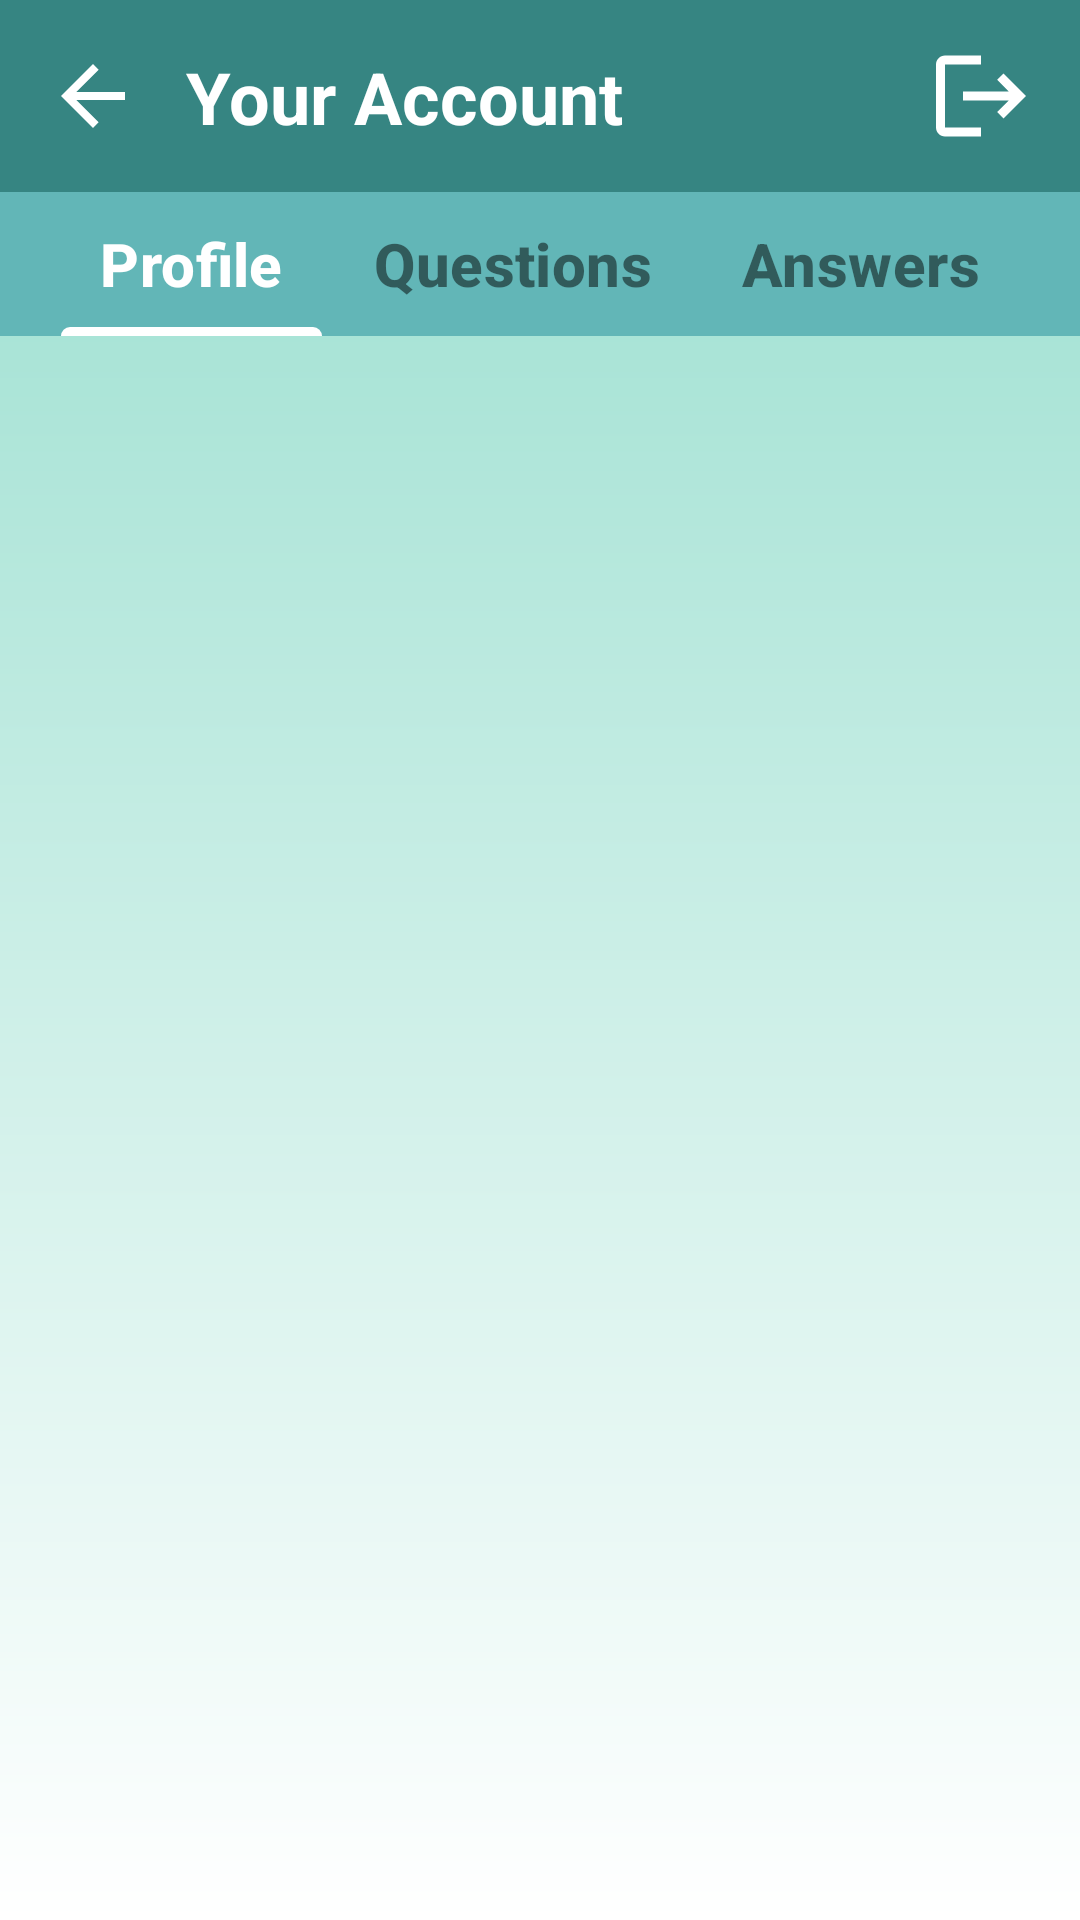

Icons on this 1080×1920 Android screen, each with the point to tap as (x,y):
Back: (93,96)
